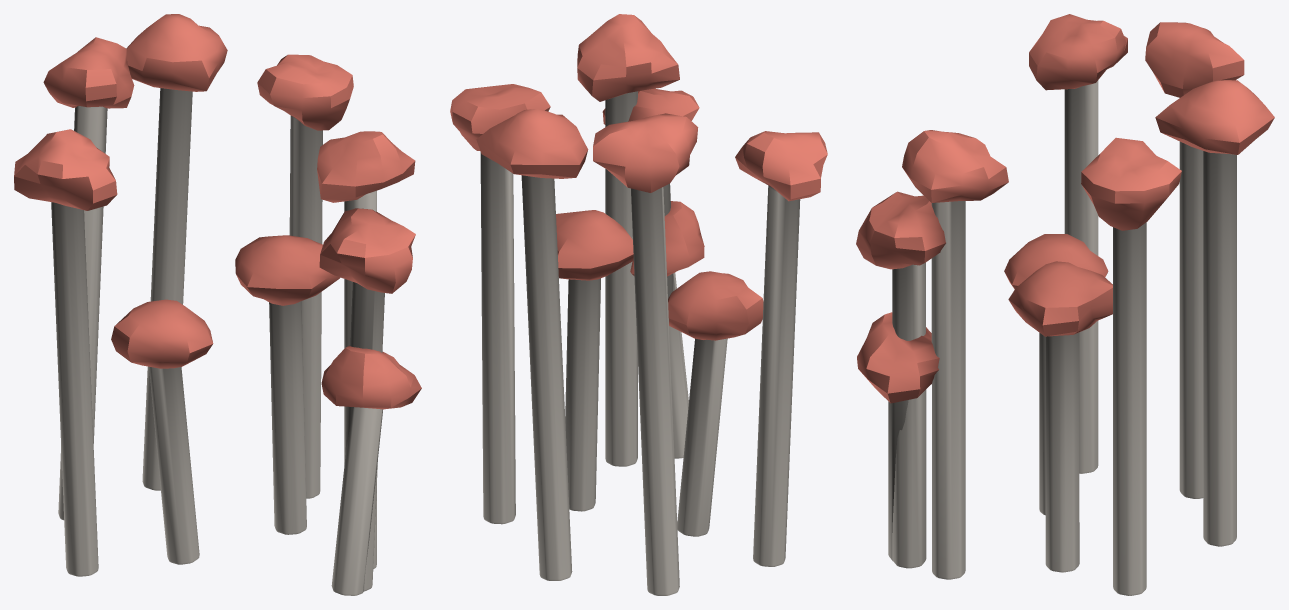
The model's file is tubeworms.glb.
The picture shows the model from 3 angles, left to right: view 1: azimuth 30°, elevation 25°; view 2: azimuth 150°, elevation 25°; view 3: azimuth 270°, elevation 25°; orthographic projection.
Visible parts, largest first — view 1: boat_tubew, boat_plume; view 2: boat_tubew, boat_plume; view 3: boat_tubew, boat_plume.
Boxes of the visible parts, box(x1,y1,x2,y2) form: boat_tubew: box(51, 88, 384, 595); boat_plume: box(14, 14, 421, 409); boat_tubew: box(480, 91, 800, 595); boat_plume: box(450, 14, 827, 340); boat_tubew: box(888, 80, 1236, 595); boat_plume: box(856, 14, 1274, 403).
Size of the model in its own units: 0.5118 by 0.6557 by 0.5264.
